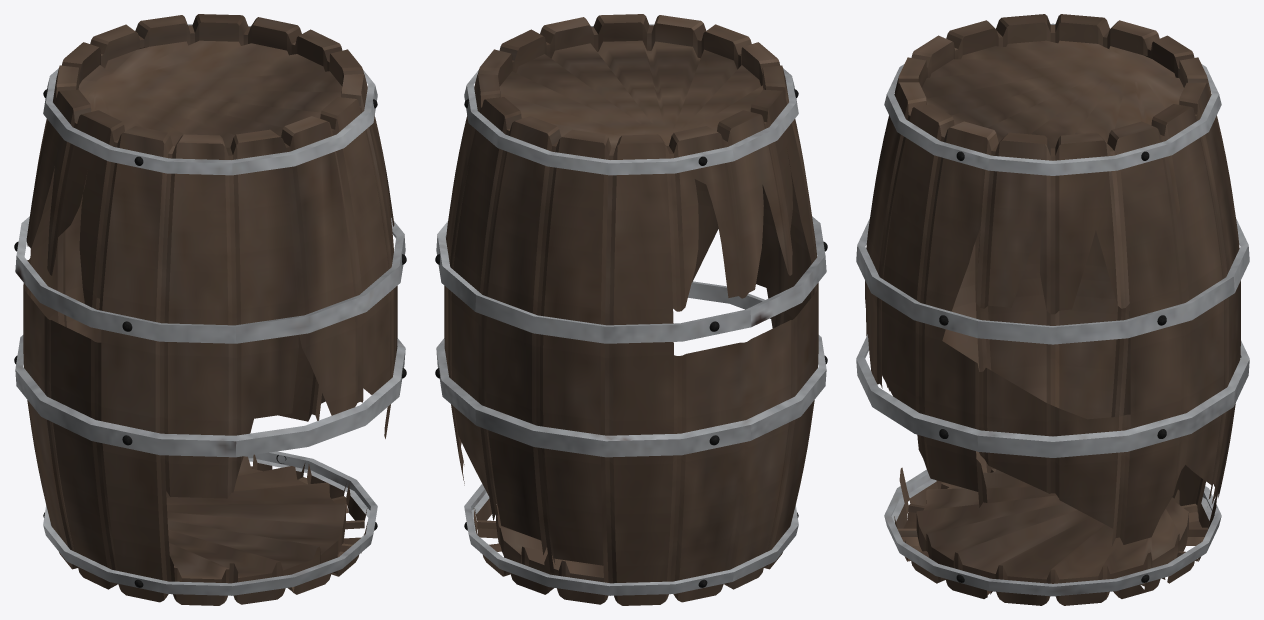
File: Broken C-Box.fbx
The picture shows the model from 3 angles, left to right: view 1: azimuth 30°, elevation 25°; view 2: azimuth 150°, elevation 25°; view 3: azimuth 270°, elevation 25°; orthographic projection.
Parts seen in each view (by area): view 1: iRON; view 2: iRON; view 3: iRON.
Part boxes in pixels (x1,y1,x2,y2): iRON: [14, 14, 406, 605]; iRON: [435, 14, 827, 605]; iRON: [856, 14, 1249, 605].
Size of the model in its own units: 253 by 328 by 253.
1 material, 1 textured.
